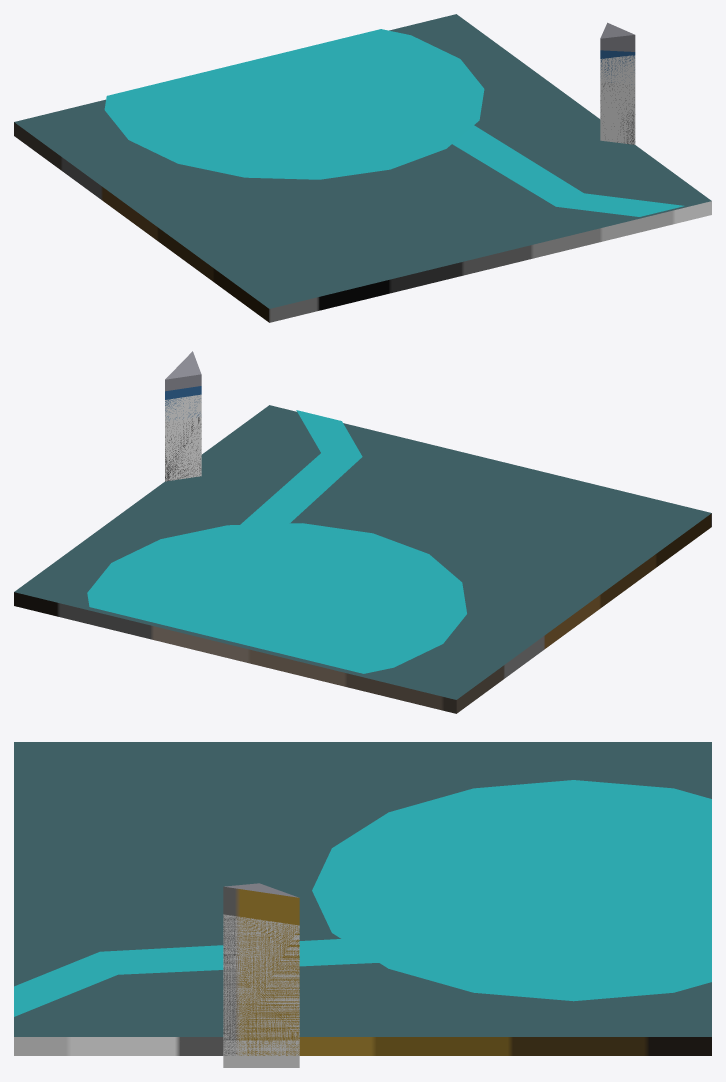
The model's file is tile_2_0_9.gltf.
3 renders of one model, top to bottom at view 1: azimuth 30°, elevation 25°; view 2: azimuth 150°, elevation 25°; view 3: azimuth 270°, elevation 25°, orthographic. The views are drawn at different scales.
Parts seen in each view (by area): view 1: ground, decal.circles, grindcurve.01_curve, grindcurve.02; view 2: ground, decal.circles, grindcurve.01_curve, grindcurve.02; view 3: ground, decal.circles, grindcurve.01_curve, grindcurve.02.
Boxes of the visible parts, bbox=[...] form: ground: bbox=[14, 14, 711, 322]; decal.circles: bbox=[104, 29, 683, 216]; grindcurve.01_curve: bbox=[600, 55, 635, 144]; grindcurve.02: bbox=[600, 22, 635, 144]; ground: bbox=[14, 405, 711, 713]; decal.circles: bbox=[87, 410, 466, 673]; grindcurve.01_curve: bbox=[165, 394, 201, 481]; grindcurve.02: bbox=[165, 351, 201, 481]; ground: bbox=[14, 742, 711, 1055]; decal.circles: bbox=[14, 780, 711, 1016]; grindcurve.01_curve: bbox=[223, 914, 299, 1067]; grindcurve.02: bbox=[223, 883, 299, 1040].
Size of the model in its own units: 8 by 2.29 by 8.
Materials: 2 (2 with a texture image).
